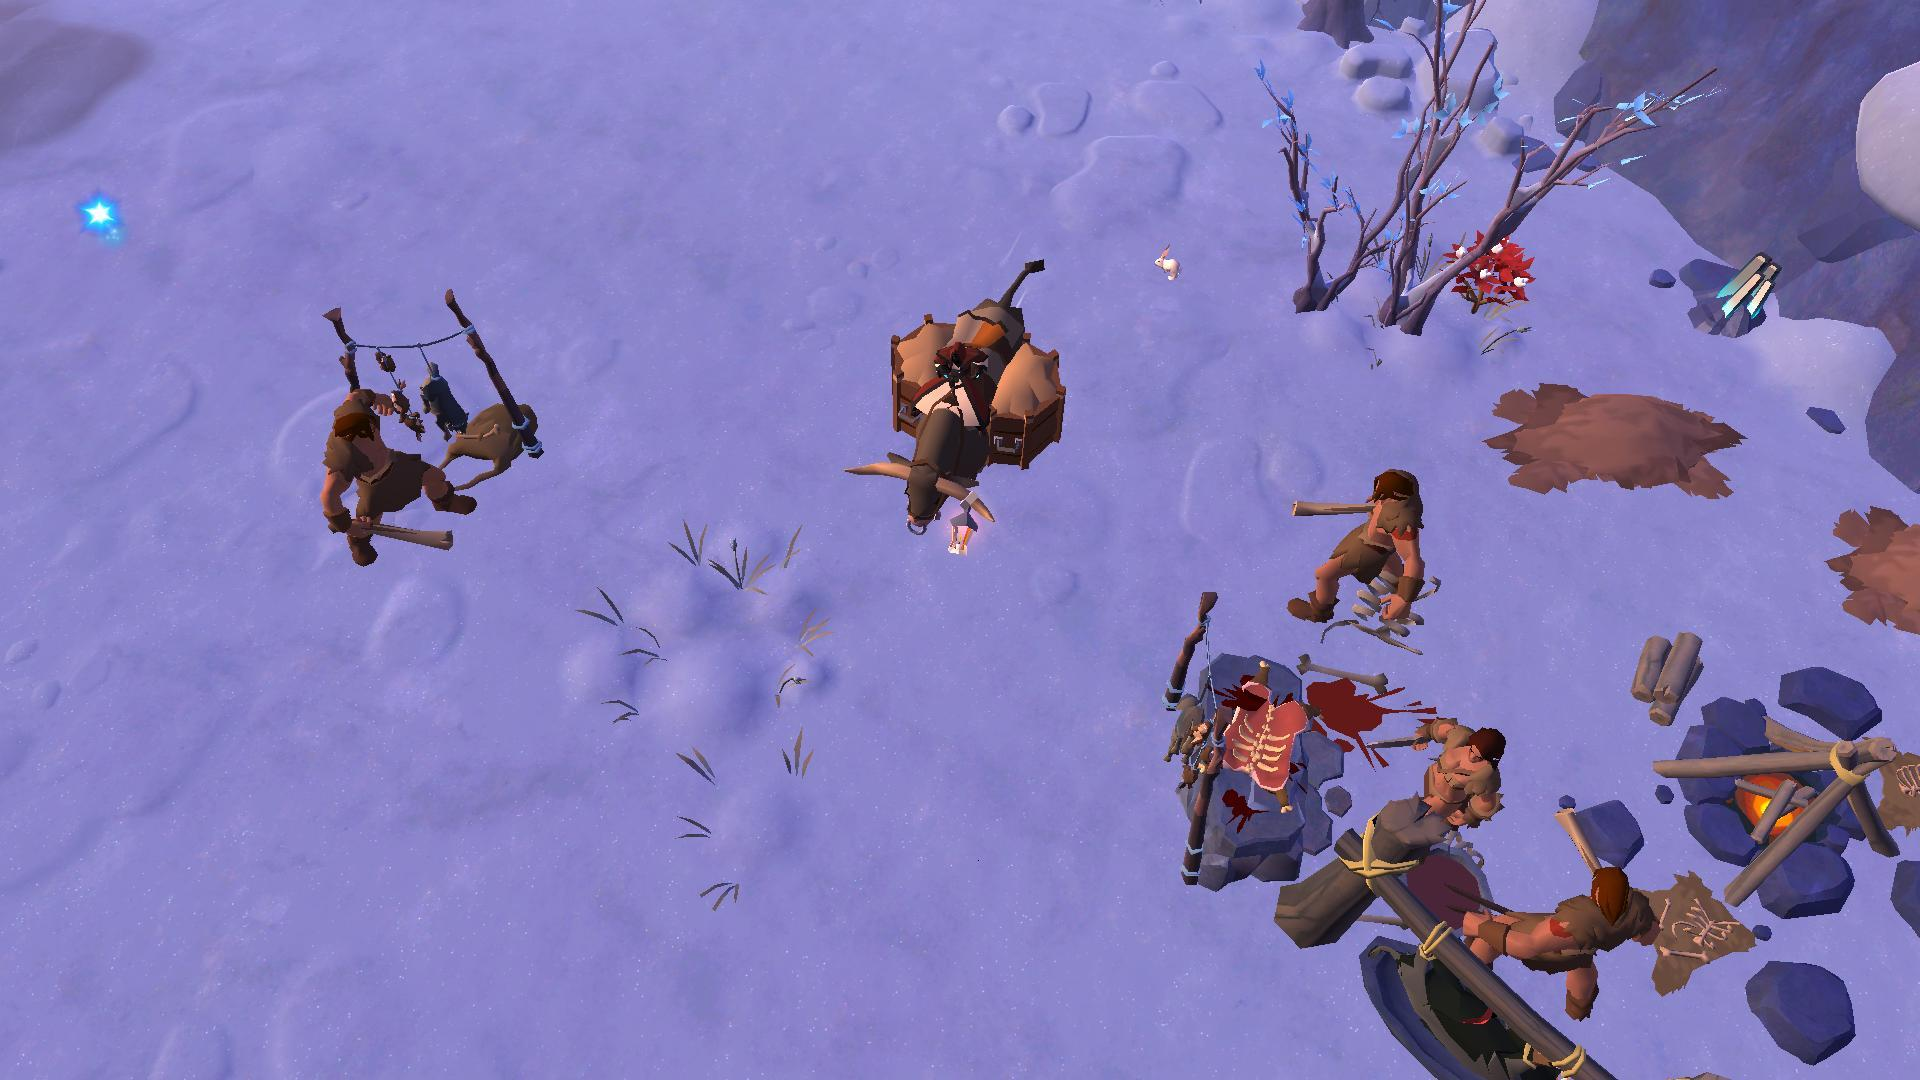enemy_factionKeeper: (1485, 829, 1646, 1021), (306, 382, 479, 556), (1296, 463, 1431, 624), (1385, 698, 1503, 839)
fiber_t5: (1439, 231, 1543, 314)
ore_t4: (1710, 251, 1787, 328)
